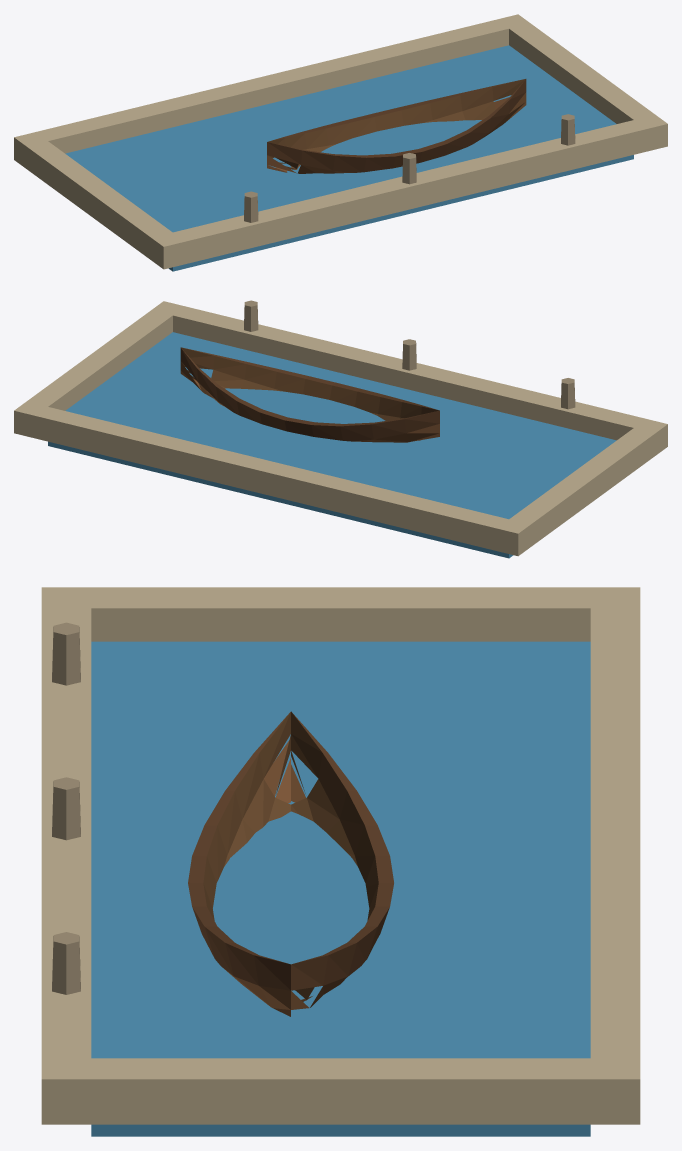
Rendered from harbour_basin.glb.
3 views of the same model, one above another, from view 1: azimuth 30°, elevation 25°; view 2: azimuth 150°, elevation 25°; view 3: azimuth 270°, elevation 25° (orthographic). The views are drawn at different scales.
Visible parts, largest first — view 1: harbour_basin2; view 2: harbour_basin2; view 3: harbour_basin2.
Part boxes in pixels (x1,y1,x2,y2): harbour_basin2: [14, 14, 667, 271]; harbour_basin2: [14, 300, 667, 558]; harbour_basin2: [41, 587, 640, 1136].
Bounding box in the file's own units: 7 × 0.88 × 3.6.
